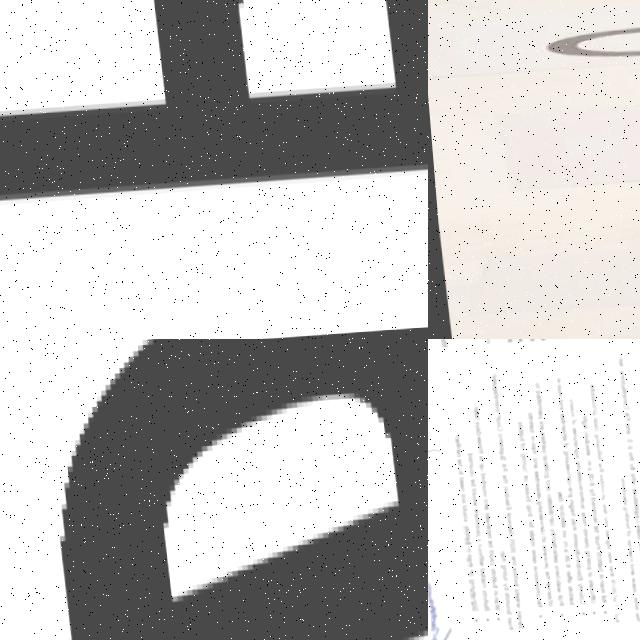0: (539, 11, 640, 64), (579, 479, 588, 484), (499, 541, 507, 546), (555, 555, 561, 561), (602, 589, 608, 593), (579, 476, 587, 479), (555, 560, 561, 564), (500, 548, 506, 551)
1: (601, 586, 607, 587)
2: (499, 544, 507, 549), (500, 552, 509, 555), (602, 593, 609, 596)
7: (603, 610, 609, 615), (602, 606, 608, 609)
8: (580, 485, 588, 490), (554, 566, 562, 570)
9: (600, 582, 608, 585)
A: (615, 414, 623, 420), (590, 601, 598, 606), (586, 421, 592, 427), (533, 447, 539, 453), (531, 428, 537, 434), (537, 489, 543, 495), (540, 520, 546, 526), (471, 604, 480, 608), (603, 621, 611, 625), (618, 433, 624, 438), (594, 510, 600, 515), (551, 409, 557, 414), (548, 496, 554, 501), (522, 427, 528, 432), (528, 497, 534, 502), (524, 466, 530, 471), (511, 435, 517, 440), (521, 539, 527, 544), (493, 464, 499, 469), (475, 508, 481, 513), (571, 508, 578, 512), (574, 541, 581, 545), (624, 503, 630, 507), (554, 552, 560, 556), (558, 600, 564, 604), (534, 459, 540, 463), (490, 554, 496, 558), (588, 588, 595, 591), (557, 480, 564, 483), (522, 448, 529, 451), (529, 519, 536, 522), (457, 560, 464, 563), (631, 584, 637, 587), (620, 575, 626, 578), (618, 556, 624, 559), (621, 587, 627, 590), (598, 558, 604, 561), (599, 570, 605, 573), (588, 567, 594, 570), (565, 445, 571, 448), (569, 480, 575, 483), (579, 587, 585, 590), (549, 390, 555, 393), (554, 439, 560, 442), (564, 545, 570, 548), (557, 469, 563, 472), (561, 523, 567, 526), (556, 583, 562, 586), (538, 505, 544, 508), (545, 586, 551, 589), (530, 530, 536, 533), (496, 516, 502, 519), (467, 415, 473, 418), (468, 430, 474, 433), (482, 582, 488, 585), (484, 603, 490, 606), (467, 540, 473, 543), (465, 516, 471, 519), (470, 581, 476, 584), (455, 539, 461, 542), (460, 596, 466, 599), (627, 534, 632, 537), (633, 595, 638, 598), (578, 577, 583, 580)
B: (461, 483, 471, 489), (516, 499, 525, 505), (456, 542, 464, 548), (521, 430, 530, 435), (510, 439, 519, 444), (448, 464, 457, 469), (560, 513, 568, 518), (564, 552, 572, 557), (587, 570, 596, 574), (540, 534, 549, 538), (559, 603, 566, 608), (553, 436, 561, 440), (496, 611, 502, 616), (474, 608, 480, 613), (493, 588, 500, 592), (581, 495, 589, 498), (527, 493, 535, 496), (537, 601, 545, 604), (502, 585, 510, 588), (479, 546, 487, 549), (482, 586, 490, 589), (621, 470, 628, 473), (584, 532, 591, 535)
C: (568, 601, 576, 607), (586, 430, 593, 436), (616, 408, 624, 413), (490, 428, 498, 433), (473, 494, 480, 499), (531, 533, 537, 538), (497, 498, 503, 503), (461, 473, 467, 478), (534, 462, 541, 466), (542, 549, 549, 553), (569, 484, 575, 488), (582, 517, 589, 520), (540, 526, 547, 529), (545, 581, 552, 584), (613, 495, 619, 498), (621, 583, 627, 586), (603, 618, 609, 621), (577, 446, 583, 449), (558, 483, 564, 486), (566, 570, 572, 573), (551, 518, 557, 521), (533, 557, 539, 560), (514, 470, 520, 473), (477, 530, 483, 533), (480, 565, 486, 568), (575, 538, 580, 541), (579, 592, 584, 595)
D: (25, 339, 428, 640), (445, 435, 456, 441), (517, 515, 527, 521), (450, 477, 460, 483), (483, 376, 494, 381), (549, 401, 558, 407), (462, 488, 471, 494), (477, 550, 487, 555), (528, 390, 536, 396), (549, 500, 558, 505), (616, 425, 624, 430), (538, 508, 546, 513), (468, 432, 476, 437), (459, 453, 467, 458), (452, 507, 462, 511), (541, 540, 550, 544), (470, 568, 476, 574), (591, 484, 598, 489), (536, 482, 544, 486), (519, 535, 527, 539), (525, 458, 531, 463), (474, 500, 480, 505), (581, 500, 590, 503), (475, 513, 484, 516), (615, 519, 623, 522), (619, 567, 627, 570), (595, 531, 603, 534), (539, 514, 547, 517), (472, 475, 480, 478), (564, 539, 570, 542), (495, 597, 501, 600), (566, 339, 573, 340)
E: (624, 516, 631, 522), (530, 421, 537, 427), (450, 481, 457, 487), (496, 507, 504, 512), (586, 424, 592, 430), (567, 461, 573, 467), (568, 473, 574, 479), (538, 498, 544, 504), (451, 485, 457, 491), (619, 454, 626, 459), (613, 497, 620, 502), (551, 415, 558, 420), (543, 557, 550, 562), (534, 572, 541, 577), (484, 380, 491, 385), (497, 528, 504, 533), (502, 580, 509, 585), (466, 409, 473, 414), (468, 442, 475, 447), (446, 440, 453, 445), (614, 503, 620, 508), (622, 600, 628, 605), (590, 464, 596, 469), (576, 448, 582, 453), (577, 454, 583, 459), (584, 528, 590, 533), (581, 504, 587, 509), (564, 432, 570, 437), (570, 494, 576, 499), (559, 489, 565, 494), (561, 510, 567, 515), (551, 526, 557, 531), (550, 520, 556, 525), (525, 472, 531, 477), (493, 475, 499, 480), (489, 434, 495, 439), (490, 443, 496, 448), (504, 600, 510, 605), (506, 615, 512, 620), (506, 623, 512, 628), (469, 438, 475, 443), (476, 517, 482, 522), (459, 457, 465, 462), (461, 480, 467, 485), (449, 460, 455, 465), (622, 492, 629, 496), (562, 406, 569, 410), (573, 533, 580, 537), (520, 550, 527, 554), (626, 527, 632, 531), (623, 614, 629, 618), (529, 396, 535, 400), (532, 438, 538, 442), (545, 573, 551, 577), (533, 553, 539, 557), (520, 531, 526, 535), (448, 452, 454, 456), (627, 546, 634, 549), (630, 577, 637, 580), (633, 608, 640, 611), (567, 579, 574, 582), (565, 573, 572, 576), (526, 486, 533, 489), (521, 557, 528, 560), (500, 558, 507, 561), (476, 527, 483, 530), (469, 575, 476, 578), (459, 583, 466, 586), (611, 363, 617, 366), (617, 544, 623, 547), (621, 580, 627, 583), (591, 481, 597, 484), (596, 536, 602, 539), (583, 513, 589, 516), (583, 520, 589, 523), (552, 419, 558, 422), (553, 428, 559, 431), (556, 574, 562, 577), (530, 414, 536, 417), (543, 553, 549, 556), (525, 477, 531, 480), (536, 584, 542, 587), (535, 594, 541, 597), (516, 490, 522, 493), (487, 403, 493, 406), (497, 522, 503, 525), (495, 502, 501, 505), (502, 569, 508, 572), (504, 598, 510, 601), (496, 622, 502, 625), (472, 478, 478, 481), (477, 534, 483, 537), (478, 543, 484, 546), (434, 339, 440, 342), (543, 544, 548, 547), (478, 339, 484, 341)
F: (589, 460, 598, 463), (630, 568, 638, 571), (602, 598, 610, 601), (563, 420, 571, 423), (554, 444, 562, 447), (531, 539, 539, 542), (511, 444, 519, 447), (519, 527, 527, 530), (448, 445, 456, 448), (617, 533, 623, 536), (580, 599, 586, 601), (501, 579, 509, 580), (580, 597, 586, 598), (557, 581, 563, 582)
G: (553, 452, 562, 457), (526, 502, 535, 507), (574, 551, 582, 556), (488, 565, 496, 570), (500, 532, 506, 538), (613, 508, 620, 513), (511, 454, 518, 459), (564, 453, 572, 457), (624, 514, 630, 518), (587, 436, 593, 440), (595, 543, 603, 546), (573, 424, 581, 427), (558, 507, 566, 510), (459, 603, 467, 606)
H: (590, 468, 599, 473), (623, 478, 629, 484), (571, 497, 577, 503), (522, 339, 531, 343), (502, 561, 510, 565), (617, 527, 623, 532), (491, 558, 498, 562), (619, 458, 627, 461), (628, 550, 636, 553), (599, 574, 607, 577), (568, 467, 576, 470), (545, 576, 553, 579), (494, 481, 501, 484), (470, 450, 477, 453), (624, 619, 630, 622), (575, 420, 581, 423), (535, 576, 541, 579), (497, 626, 503, 629), (469, 556, 475, 559)
I: (531, 441, 542, 444), (456, 551, 465, 554), (612, 490, 620, 493), (589, 584, 597, 587), (578, 590, 586, 593), (529, 404, 537, 407), (524, 583, 532, 586), (522, 578, 532, 580), (447, 447, 457, 449), (585, 402, 591, 405), (566, 456, 575, 458), (535, 468, 541, 471), (522, 440, 531, 442), (613, 383, 621, 385), (625, 512, 633, 514), (596, 546, 604, 548), (589, 580, 597, 582), (527, 510, 535, 512), (496, 620, 504, 622), (476, 524, 484, 526), (447, 444, 455, 446), (461, 607, 469, 609), (615, 517, 622, 519), (569, 487, 576, 489), (615, 393, 621, 395), (624, 609, 630, 611), (584, 397, 590, 399), (589, 444, 595, 446), (593, 487, 599, 489), (596, 528, 602, 530), (575, 427, 581, 429), (577, 442, 583, 444), (580, 595, 586, 597), (550, 382, 556, 384), (550, 388, 556, 390), (566, 565, 572, 567), (551, 514, 557, 516), (540, 512, 546, 514), (496, 495, 502, 497), (582, 511, 592, 512), (511, 463, 521, 464), (575, 560, 583, 561), (556, 460, 564, 461), (560, 505, 568, 506), (523, 447, 531, 448), (482, 596, 490, 597), (470, 579, 478, 580), (468, 561, 476, 562), (457, 558, 465, 559), (535, 465, 541, 466), (493, 574, 499, 575), (484, 601, 490, 602)
K: (503, 594, 511, 597), (631, 580, 637, 583), (464, 510, 470, 513)
L: (454, 537, 464, 540), (574, 544, 582, 547), (497, 514, 505, 517), (626, 523, 633, 526), (454, 536, 464, 538), (451, 510, 461, 512), (549, 386, 555, 389), (467, 419, 476, 421), (589, 454, 597, 456), (594, 515, 602, 517), (589, 583, 597, 585), (590, 600, 598, 602), (575, 563, 583, 565), (557, 598, 565, 600), (557, 597, 565, 599), (544, 556, 552, 558), (492, 575, 500, 577), (479, 555, 487, 557), (463, 494, 471, 496), (470, 577, 478, 579), (616, 522, 622, 524), (591, 599, 597, 601), (576, 561, 582, 563), (552, 525, 558, 527), (535, 470, 541, 472), (548, 598, 554, 600), (473, 602, 479, 604), (458, 555, 464, 557), (534, 457, 543, 458), (613, 501, 621, 502), (620, 591, 628, 592), (586, 430, 594, 431), (589, 456, 597, 457), (520, 424, 528, 425), (496, 506, 504, 507), (482, 579, 490, 580), (481, 580, 489, 581), (587, 564, 594, 565), (483, 599, 490, 600), (578, 454, 584, 455), (587, 566, 593, 567), (579, 585, 585, 586), (567, 577, 573, 578), (548, 597, 554, 598), (522, 426, 528, 427), (524, 444, 530, 445), (511, 435, 517, 436), (510, 432, 516, 433), (473, 601, 479, 602)
M: (628, 556, 635, 562), (490, 438, 497, 444), (484, 605, 491, 611), (435, 344, 443, 349), (589, 591, 595, 597), (550, 394, 556, 400), (562, 527, 568, 533), (554, 543, 560, 549), (523, 451, 529, 457), (521, 543, 527, 549), (465, 519, 471, 525), (458, 563, 464, 569), (578, 463, 585, 468), (618, 559, 624, 564), (573, 523, 579, 528), (529, 406, 535, 411), (471, 584, 476, 590), (623, 603, 628, 608), (586, 548, 591, 553), (533, 339, 541, 342)
N: (526, 604, 534, 610), (612, 376, 619, 382), (582, 389, 589, 395), (565, 447, 572, 452), (557, 475, 564, 480), (551, 531, 558, 536), (539, 517, 546, 522), (474, 504, 481, 509), (451, 489, 458, 494), (617, 429, 623, 434), (630, 572, 636, 577), (612, 483, 618, 488), (615, 512, 621, 517), (596, 539, 602, 544), (576, 555, 582, 560), (551, 405, 557, 410), (560, 501, 566, 506), (537, 486, 543, 491), (524, 462, 530, 467), (526, 481, 532, 486), (513, 458, 519, 463), (497, 525, 503, 530), (505, 611, 511, 616), (495, 600, 501, 605), (550, 506, 555, 511), (615, 401, 621, 405), (617, 547, 623, 551), (523, 571, 529, 575), (492, 569, 498, 573), (452, 501, 458, 505), (619, 571, 626, 574), (595, 525, 602, 528), (575, 430, 582, 433), (552, 425, 559, 428), (494, 487, 501, 490), (461, 600, 468, 603), (549, 379, 554, 383), (576, 435, 582, 438), (569, 491, 575, 494), (556, 457, 562, 460), (565, 559, 571, 562), (567, 591, 573, 594), (522, 437, 528, 440), (528, 507, 534, 510), (530, 526, 536, 529), (472, 484, 478, 487), (483, 592, 489, 595), (460, 464, 466, 467), (459, 571, 465, 574), (618, 551, 623, 554), (588, 441, 593, 444), (589, 577, 594, 580), (457, 549, 462, 552)
O: (579, 601, 588, 607), (621, 474, 628, 480), (615, 403, 621, 409), (512, 339, 518, 345), (451, 496, 457, 502), (593, 518, 600, 523), (576, 437, 583, 442), (563, 423, 570, 428), (550, 510, 557, 515), (551, 535, 558, 540), (514, 480, 521, 485), (487, 410, 494, 415), (449, 471, 457, 475), (613, 487, 619, 492), (602, 600, 608, 605), (563, 412, 569, 417), (555, 446, 561, 451), (548, 600, 554, 605), (512, 446, 518, 451), (501, 340, 507, 345), (516, 495, 522, 500), (489, 424, 495, 429), (495, 491, 501, 496), (495, 608, 501, 613), (470, 456, 476, 461), (459, 574, 465, 579), (633, 616, 640, 620), (471, 597, 478, 601), (589, 456, 594, 461), (613, 380, 619, 384), (629, 562, 635, 566), (583, 394, 589, 398), (565, 562, 571, 566), (523, 575, 529, 579), (453, 516, 459, 520), (584, 408, 591, 411), (575, 565, 582, 568), (564, 549, 571, 552), (531, 541, 538, 544), (537, 605, 544, 608), (517, 510, 524, 513), (524, 589, 531, 592), (460, 472, 467, 475), (616, 536, 622, 539), (615, 525, 621, 528), (588, 451, 594, 454), (587, 560, 593, 563), (568, 598, 574, 601), (557, 594, 563, 597), (528, 385, 534, 388), (536, 473, 542, 476), (521, 421, 527, 424), (533, 561, 539, 564), (510, 429, 516, 432), (519, 524, 525, 527), (525, 600, 531, 603), (486, 392, 492, 395), (502, 576, 508, 579), (473, 491, 479, 494), (481, 575, 487, 578), (480, 561, 486, 564), (467, 552, 473, 555), (466, 531, 472, 534), (463, 499, 469, 502), (455, 532, 461, 535), (593, 494, 598, 497)
P: (616, 419, 624, 425), (528, 417, 537, 422), (534, 476, 543, 481), (482, 384, 491, 389), (584, 413, 591, 419), (591, 498, 599, 503), (577, 469, 585, 474), (532, 451, 540, 456), (548, 604, 554, 609), (514, 506, 524, 509), (494, 470, 500, 475), (524, 595, 531, 599), (634, 620, 640, 624), (575, 569, 583, 572), (483, 389, 491, 392), (489, 451, 497, 454), (469, 465, 477, 468), (465, 535, 472, 538), (621, 592, 627, 595), (574, 547, 580, 550), (559, 496, 565, 499), (533, 568, 539, 571)
R: (530, 522, 536, 527), (562, 403, 568, 407), (564, 435, 570, 439), (531, 426, 537, 430), (531, 410, 537, 414), (533, 445, 539, 449), (447, 448, 453, 452), (583, 523, 590, 526), (555, 571, 562, 574), (533, 565, 540, 568), (491, 449, 498, 452), (496, 519, 503, 522), (477, 537, 484, 540), (464, 514, 471, 517), (624, 495, 630, 498), (630, 566, 636, 569), (633, 605, 639, 608), (593, 496, 599, 499), (559, 493, 565, 496), (563, 542, 569, 545), (545, 570, 551, 573), (514, 478, 520, 481), (521, 554, 527, 557), (519, 521, 525, 524), (487, 419, 496, 421), (487, 401, 493, 404), (502, 573, 508, 576), (466, 406, 472, 409), (470, 446, 476, 449), (585, 411, 590, 414), (586, 419, 591, 422), (518, 514, 524, 516), (513, 464, 519, 466), (492, 580, 498, 582), (460, 588, 466, 590), (617, 541, 622, 543), (556, 339, 561, 341), (525, 593, 530, 595), (497, 618, 502, 620), (536, 592, 542, 593)
S: (491, 458, 500, 463), (506, 627, 515, 632), (618, 441, 626, 446), (461, 609, 469, 614), (614, 396, 621, 401), (590, 475, 597, 480), (627, 539, 635, 543), (583, 385, 589, 390), (564, 428, 570, 433), (532, 434, 538, 439), (529, 514, 535, 519), (467, 422, 473, 427), (583, 400, 590, 404), (523, 580, 530, 584), (612, 373, 618, 377), (573, 530, 579, 534), (578, 581, 584, 585), (544, 567, 550, 571), (528, 512, 536, 515), (522, 567, 528, 571), (471, 591, 477, 595), (454, 526, 460, 530), (612, 366, 619, 369), (515, 486, 522, 489), (503, 591, 510, 594), (465, 527, 472, 530), (625, 509, 631, 512), (632, 591, 638, 594), (612, 480, 618, 483), (598, 549, 604, 552), (597, 554, 603, 557), (585, 540, 591, 543), (586, 554, 592, 557), (561, 400, 567, 403), (566, 458, 572, 461), (572, 516, 578, 519), (553, 431, 559, 434), (556, 465, 562, 468), (556, 462, 562, 465), (562, 534, 568, 537), (537, 495, 543, 498), (520, 415, 526, 418), (527, 490, 533, 493), (532, 550, 538, 553), (532, 546, 538, 549), (537, 597, 543, 600), (509, 423, 515, 426), (487, 398, 493, 401), (494, 594, 500, 597), (481, 570, 487, 573), (459, 580, 465, 583), (557, 588, 562, 591), (544, 562, 549, 565)
T: (568, 477, 577, 481), (576, 572, 585, 576), (537, 502, 546, 506), (467, 545, 475, 549), (449, 473, 457, 477), (610, 360, 619, 363), (614, 385, 620, 389), (628, 536, 634, 540), (627, 530, 633, 534), (590, 473, 598, 476), (562, 409, 570, 412), (571, 501, 577, 505), (529, 387, 535, 391), (545, 584, 553, 587), (487, 416, 495, 419), (492, 560, 498, 564), (472, 481, 480, 484), (469, 558, 475, 562), (455, 530, 463, 533), (614, 391, 621, 394), (625, 507, 632, 510), (620, 462, 627, 465), (624, 501, 631, 504), (623, 610, 630, 613), (574, 417, 581, 420), (525, 479, 532, 482), (490, 552, 497, 555), (497, 629, 504, 632), (615, 394, 621, 397), (628, 552, 634, 555), (600, 567, 606, 570), (603, 615, 609, 618), (577, 443, 583, 446), (585, 537, 591, 540), (587, 557, 593, 560), (566, 442, 572, 445), (570, 488, 576, 491), (568, 470, 574, 473), (572, 512, 578, 515), (552, 422, 558, 425), (567, 566, 573, 569), (556, 577, 562, 580), (530, 401, 536, 404), (521, 418, 527, 421), (510, 426, 516, 429), (495, 483, 501, 486), (487, 395, 493, 398), (502, 564, 508, 567), (467, 413, 473, 416), (471, 452, 477, 455), (481, 572, 487, 575), (466, 525, 472, 528), (594, 522, 602, 524), (533, 443, 541, 445), (535, 467, 543, 469), (541, 547, 549, 549), (460, 593, 468, 595), (568, 588, 575, 590), (632, 587, 638, 589), (625, 622, 631, 624), (557, 591, 563, 593), (530, 400, 536, 402), (496, 496, 502, 498), (461, 463, 467, 465), (471, 596, 477, 598), (452, 495, 458, 497), (612, 493, 621, 494), (535, 582, 542, 583), (600, 578, 606, 579), (551, 516, 557, 517), (471, 461, 477, 462)
U: (618, 447, 626, 452), (490, 454, 497, 459), (572, 518, 578, 523), (513, 465, 519, 470), (489, 420, 495, 425), (495, 604, 501, 609), (471, 468, 477, 473), (571, 504, 576, 509), (468, 547, 473, 552), (613, 388, 619, 392), (492, 576, 498, 580), (452, 513, 459, 516), (473, 487, 479, 490), (479, 557, 485, 560), (460, 467, 466, 470), (460, 590, 466, 593), (623, 498, 628, 501), (586, 543, 591, 546), (565, 439, 570, 442), (568, 594, 573, 597), (463, 496, 468, 499)
V: (479, 341, 489, 346), (506, 619, 512, 623), (448, 455, 454, 459), (564, 416, 569, 420), (584, 405, 590, 408), (582, 508, 588, 511), (557, 472, 563, 475), (536, 587, 542, 590), (524, 585, 530, 588), (476, 522, 482, 525), (592, 489, 597, 492), (488, 407, 493, 410)
W: (453, 519, 460, 526), (622, 483, 629, 489), (587, 445, 594, 451), (522, 560, 528, 567), (504, 604, 511, 610), (463, 503, 470, 509), (598, 561, 604, 567), (547, 590, 553, 596), (594, 506, 600, 511), (469, 563, 475, 568), (634, 611, 639, 616), (633, 598, 638, 603)
X: (516, 493, 522, 496)
Y: (464, 425, 475, 430), (619, 465, 627, 470), (579, 490, 587, 495), (546, 492, 554, 497), (539, 530, 547, 534), (560, 519, 566, 524), (492, 585, 500, 588), (566, 585, 572, 588)
